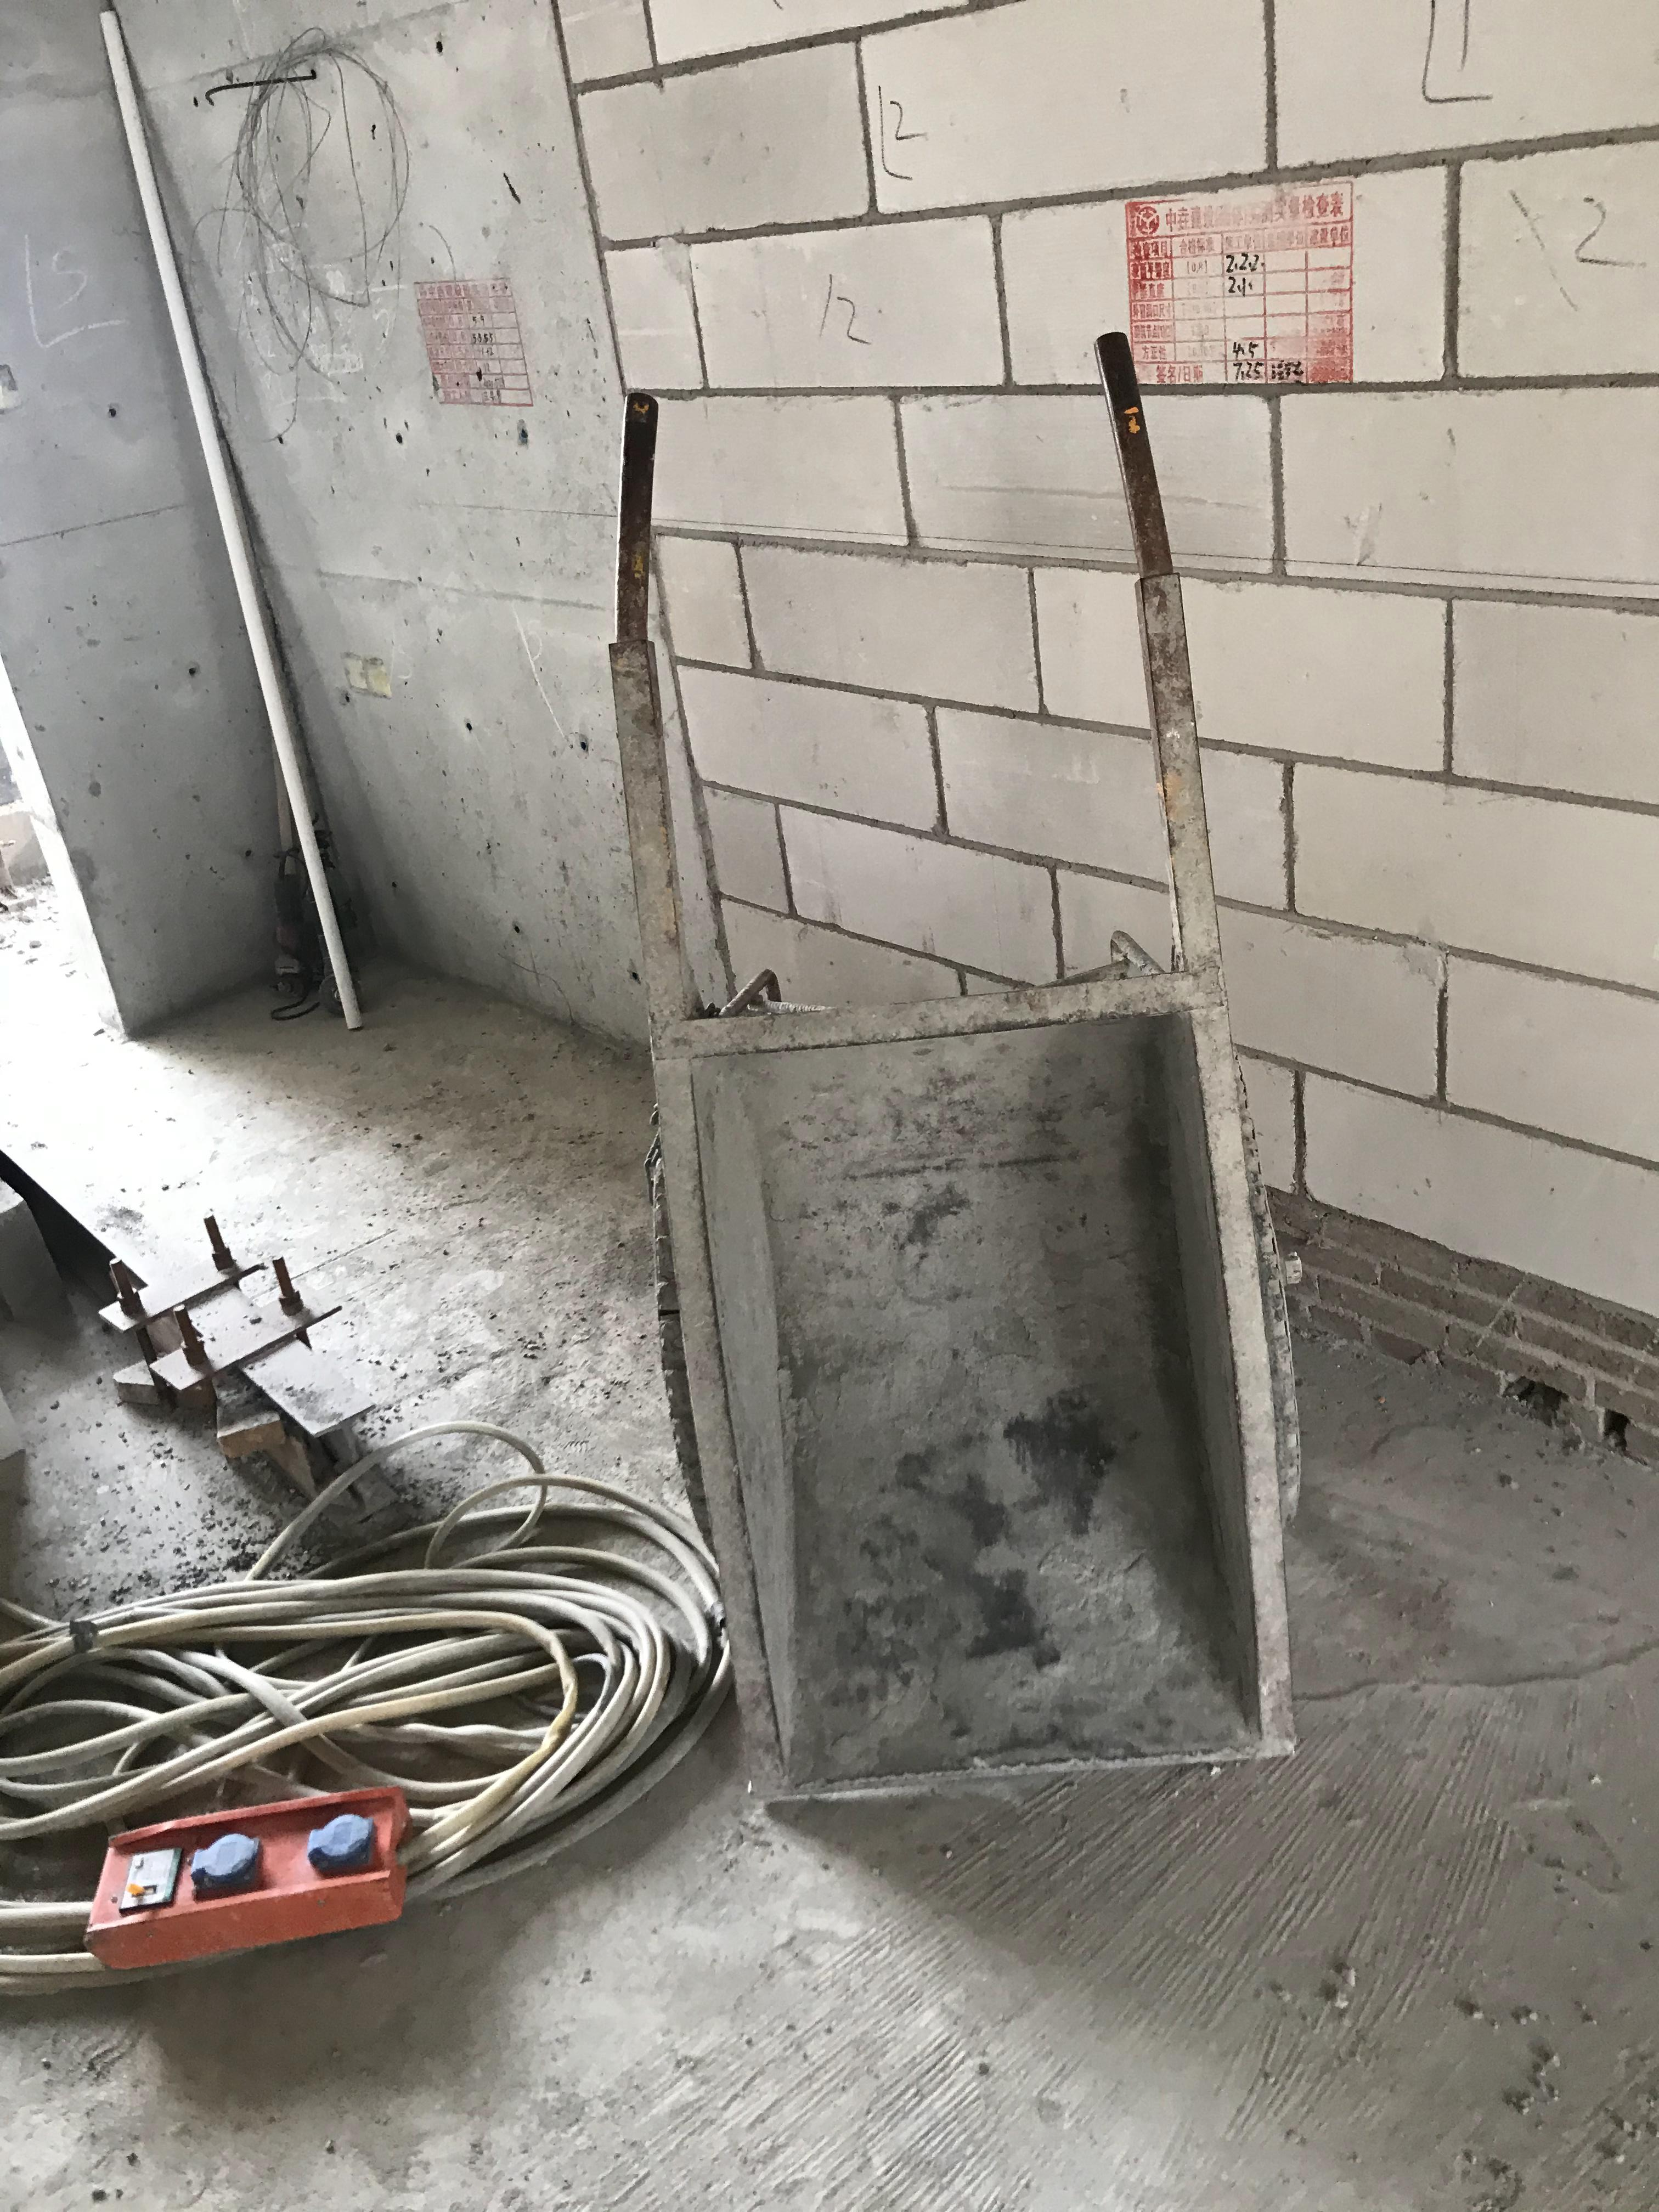handcart: (317, 343, 1659, 1068)
